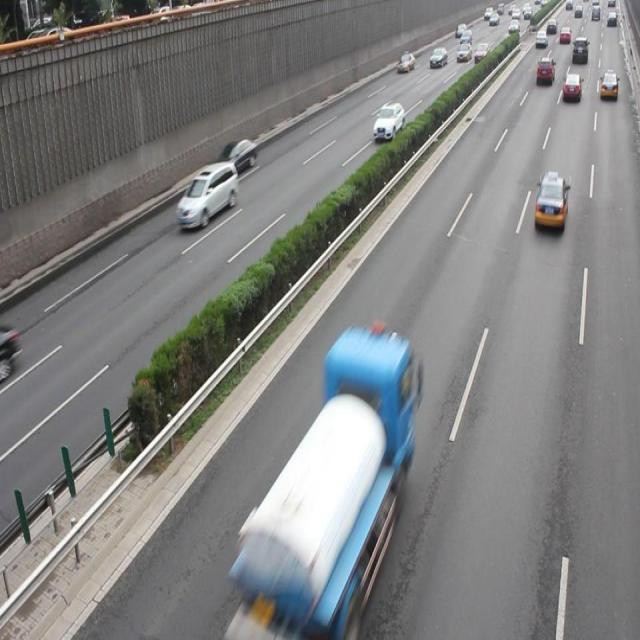bus: (226, 328, 411, 633)
car: (532, 174, 568, 232), (214, 137, 256, 172), (372, 100, 404, 142)
truck: (175, 160, 238, 230)
